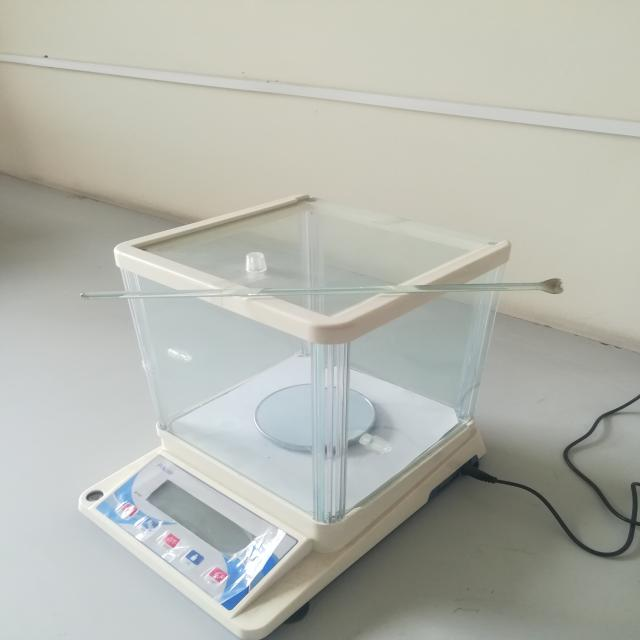Glass_Rod: (67, 271, 573, 309)
